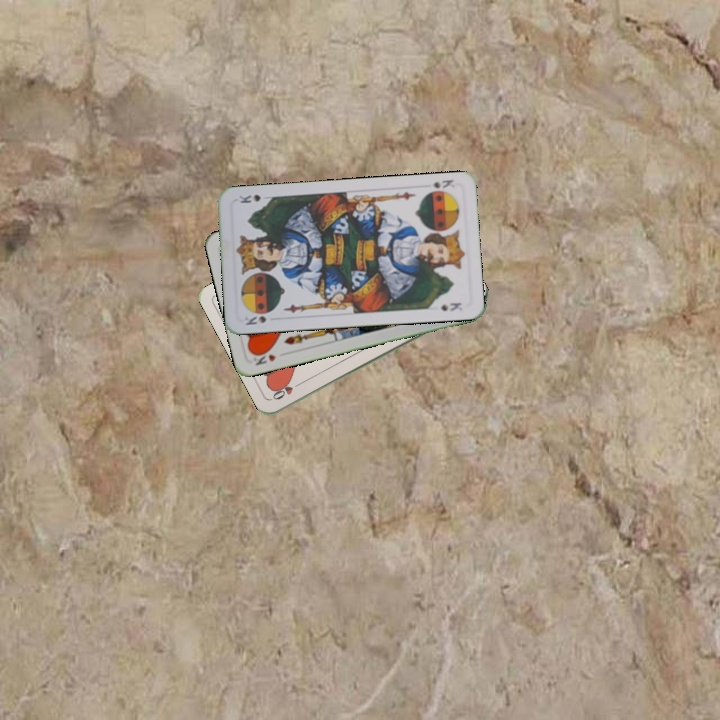HK: (251, 350, 279, 368)
HO: (268, 378, 306, 402)
SK: (241, 312, 269, 328), (429, 175, 457, 191)
